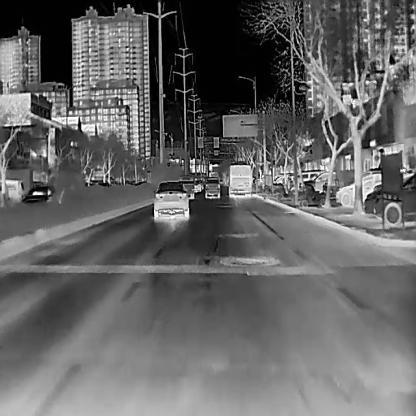car: (362, 171, 415, 225), (333, 170, 380, 207), (152, 180, 191, 218), (287, 169, 328, 194), (228, 162, 252, 195), (299, 172, 335, 193), (20, 186, 54, 203), (4, 177, 24, 201), (178, 175, 194, 198), (204, 176, 220, 197), (273, 172, 291, 184), (189, 180, 202, 192), (198, 180, 204, 189)
